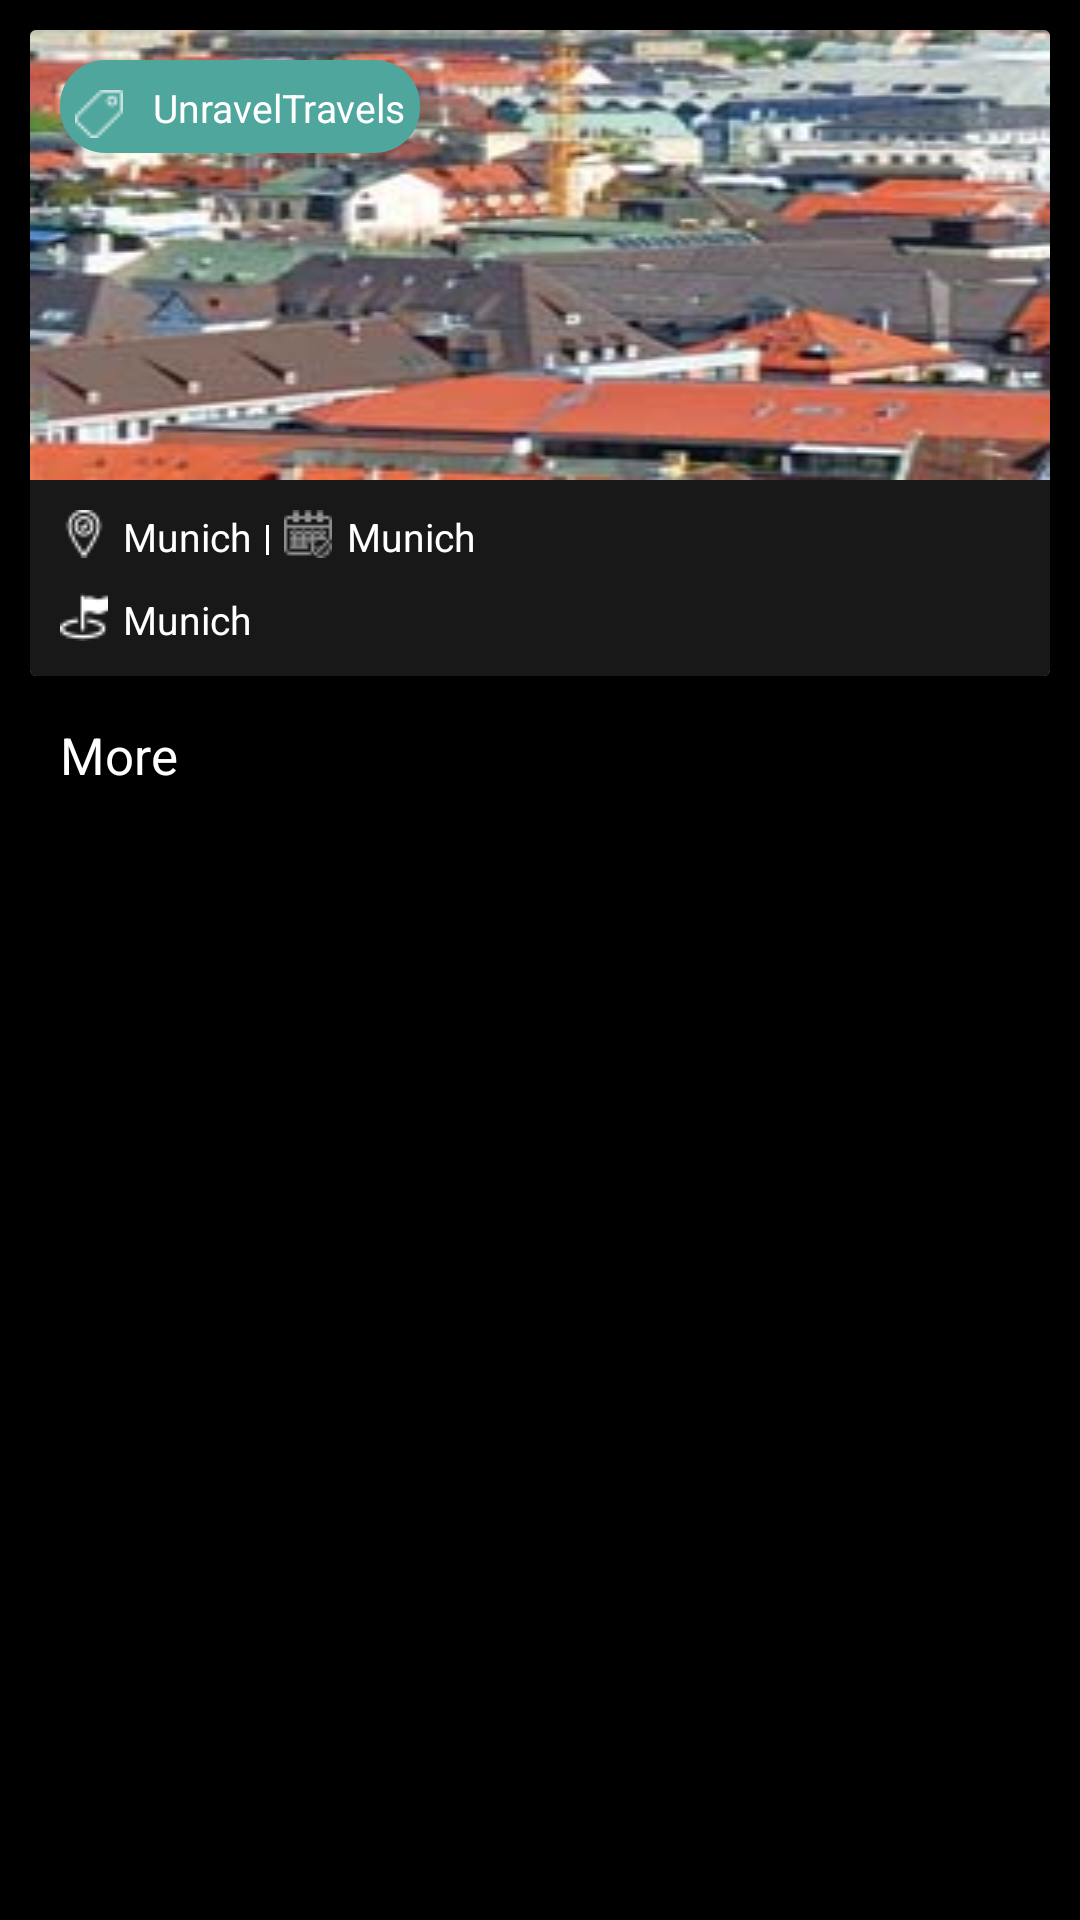

Screen size 1080x1920. Icon name, then its center in pixels as [x,y]:
calendar: [308,534]
destination: [84,618]
location: [84,534]
price tag: [99,114]
